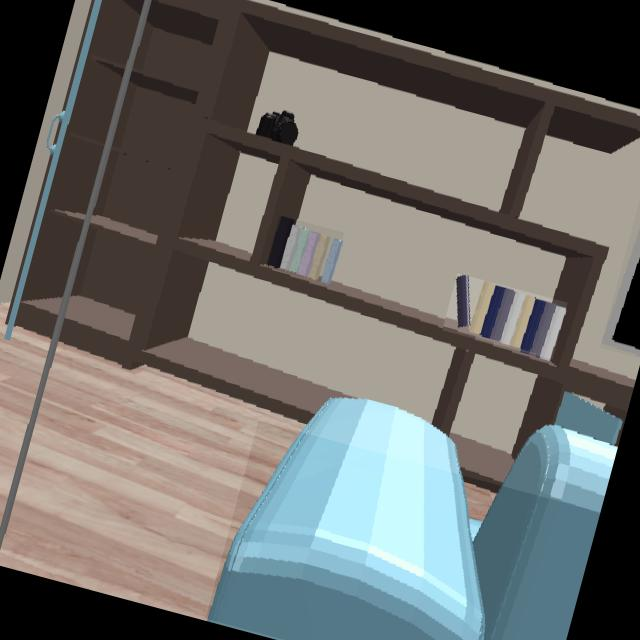book: (454, 276, 565, 358), (266, 216, 341, 284)
bookshelf: (9, 0, 640, 485)
monitor: (600, 226, 640, 358)
sofa: (205, 397, 617, 640)
